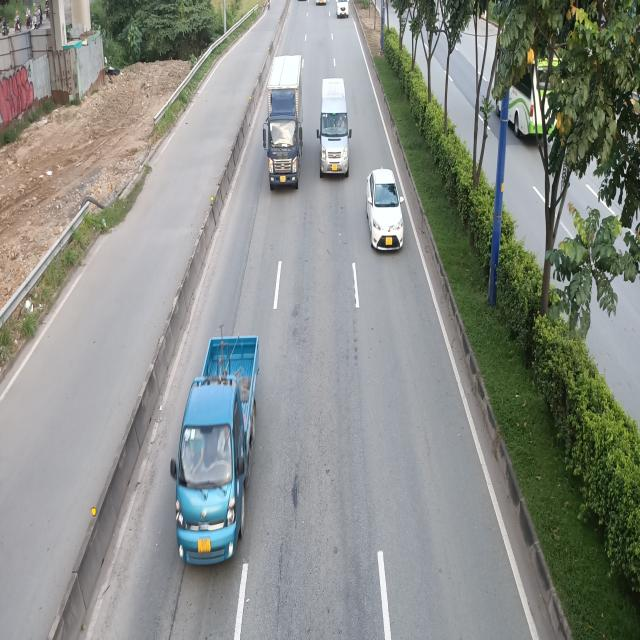car: (365, 168, 402, 252)
truck: (170, 331, 260, 564), (263, 56, 305, 193)
van: (316, 77, 352, 177)
